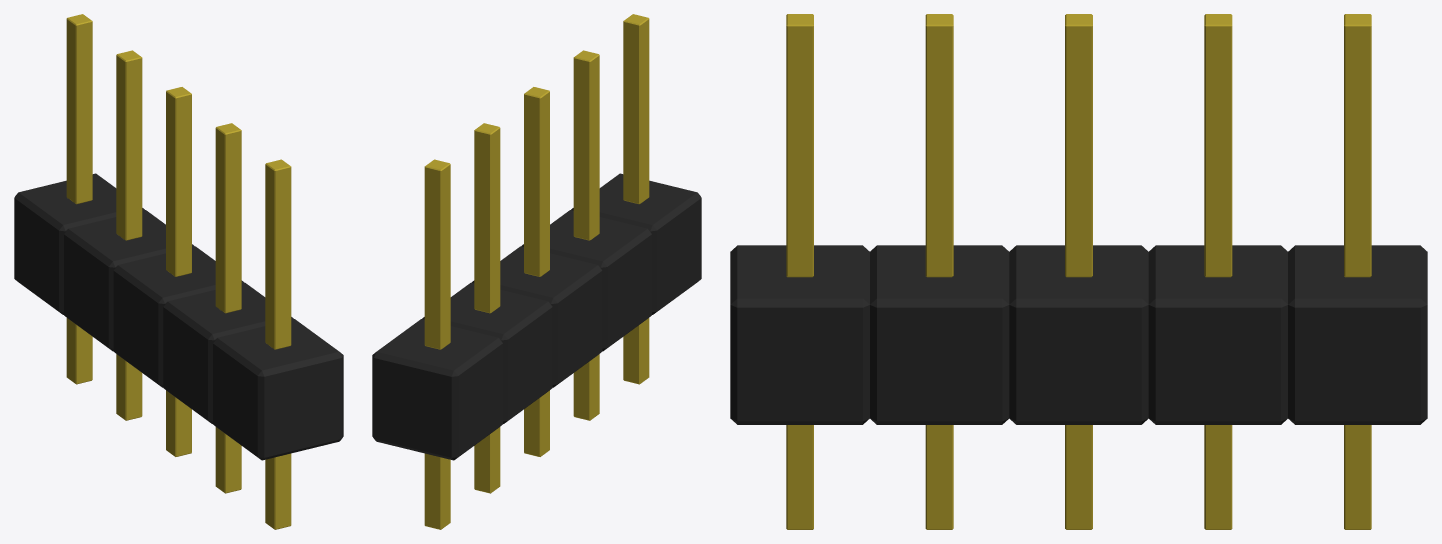
File: __mod__.glb
3 views of the same model, side by side, from view 1: azimuth 30°, elevation 25°; view 2: azimuth 150°, elevation 25°; view 3: azimuth 270°, elevation 25° (orthographic). The views are drawn at different scales.
Parts seen in each view (by area): view 1: Plane; view 2: Plane; view 3: Plane.
Part boxes in pixels (left/top/right/bottom): Plane: left=14, top=14, right=343, bottom=529; Plane: left=372, top=14, right=701, bottom=529; Plane: left=730, top=14, right=1427, bottom=529.
Bounding box in the file's own units: 0.00254 × 0.0102 × 0.0127.
